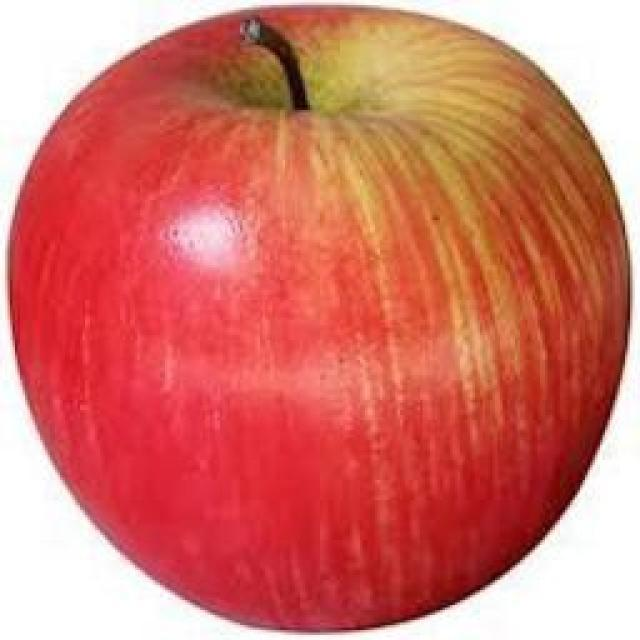Apple: (11, 11, 628, 628)
